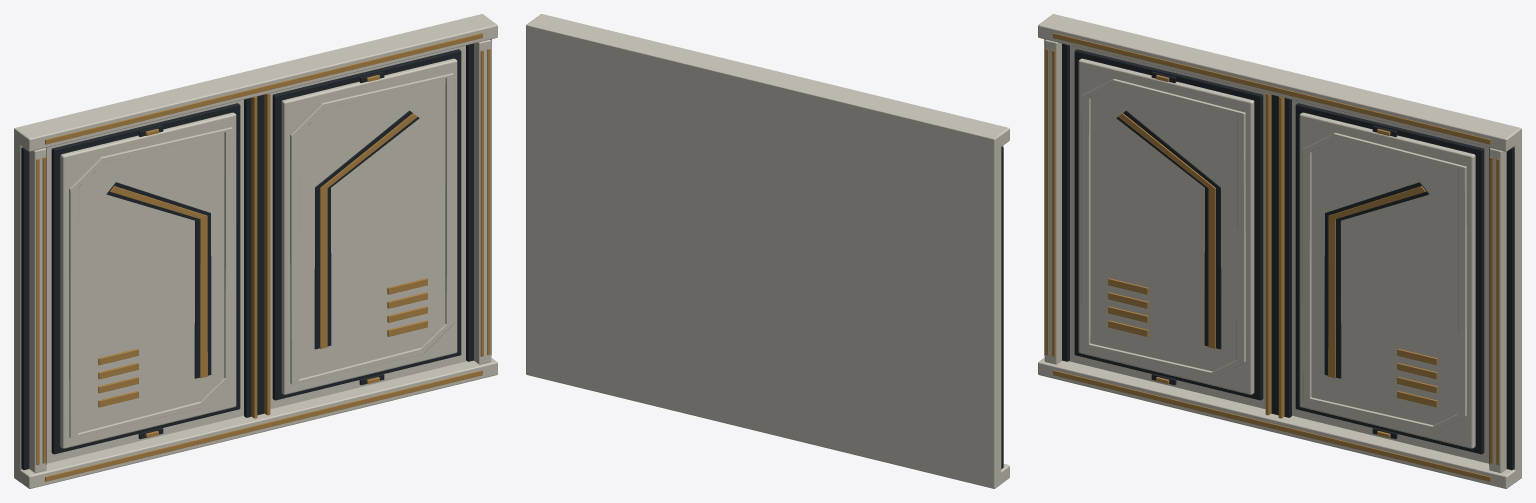
File: SM_Aurelion_KIT_Z12CofferNorth.fbx
3 renders of one model, left to right at view 1: azimuth 30°, elevation 25°; view 2: azimuth 150°, elevation 25°; view 3: azimuth 330°, elevation 25°, orthographic.
Parts seen in each view (by area): view 1: SM_Aurelion_KIT_Z12CofferNorth; view 2: SM_Aurelion_KIT_Z12CofferNorth; view 3: SM_Aurelion_KIT_Z12CofferNorth.
Part boxes in pixels (left/top/right/bottom): SM_Aurelion_KIT_Z12CofferNorth: left=14, top=14, right=497, bottom=488; SM_Aurelion_KIT_Z12CofferNorth: left=526, top=14, right=1009, bottom=488; SM_Aurelion_KIT_Z12CofferNorth: left=1038, top=14, right=1521, bottom=488.
Bounding box in the file's own units: 419 × 24.9 × 299.
